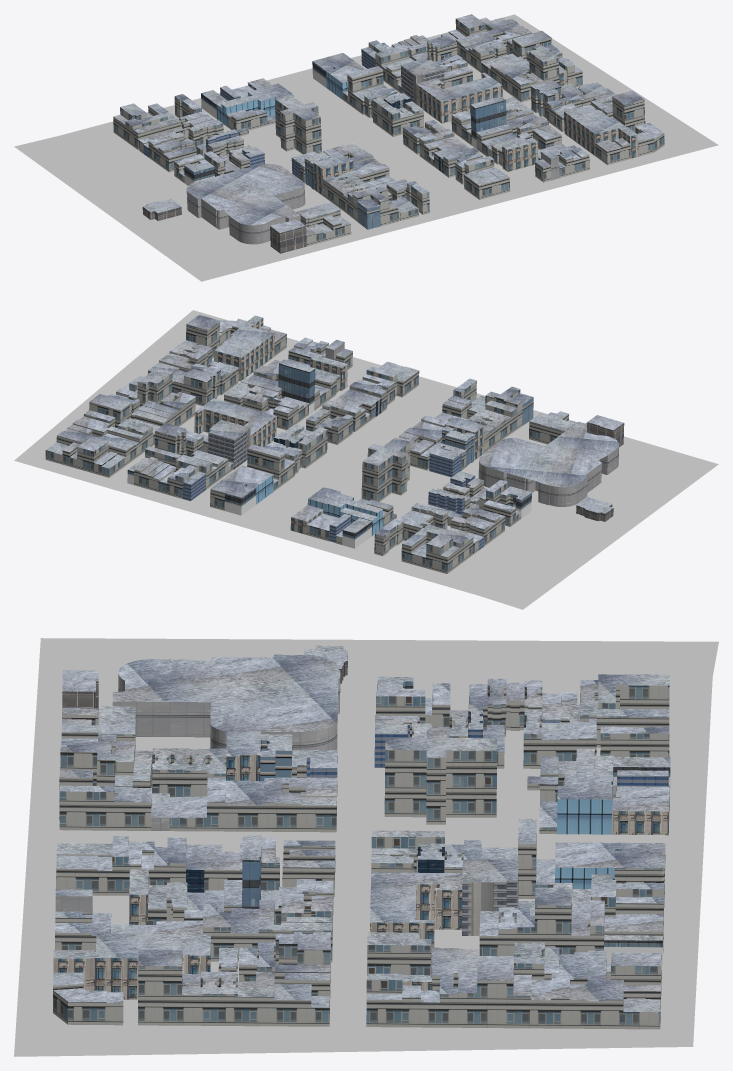
Rendered from uploads_files_2711294_manhattan.fbx.
3 renders of one model, top to bottom at view 1: azimuth 30°, elevation 25°; view 2: azimuth 150°, elevation 25°; view 3: azimuth 270°, elevation 25°, orthographic. The views are drawn at different scales.
Parts seen in each view (by area): view 1: Areas:building, EXPORT_GOOGLE_SAT_WM; view 2: Areas:building, EXPORT_GOOGLE_SAT_WM; view 3: Areas:building, EXPORT_GOOGLE_SAT_WM.
Boxes of the visible parts, x1,y1,x2,y2 form: Areas:building: (113,14,664,253); EXPORT_GOOGLE_SAT_WM: (14,14,718,281); Areas:building: (45,315,624,573); EXPORT_GOOGLE_SAT_WM: (14,310,718,609); Areas:building: (53,645,670,1029); EXPORT_GOOGLE_SAT_WM: (14,638,718,1056).
Bounding box in the file's own units: 58474 × 6035 × 38684.
